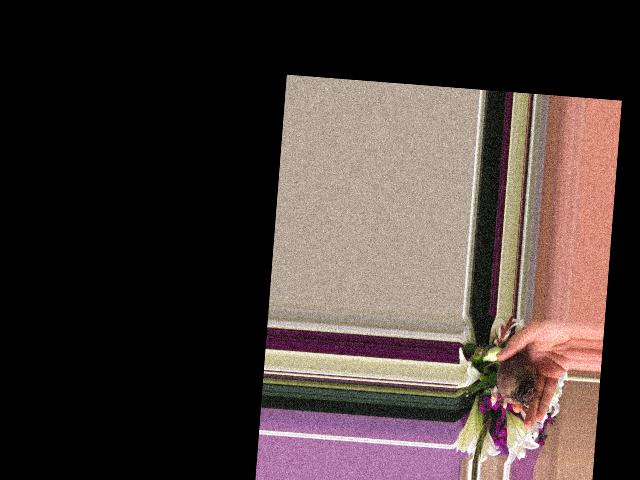beet: (482, 350, 539, 406)
